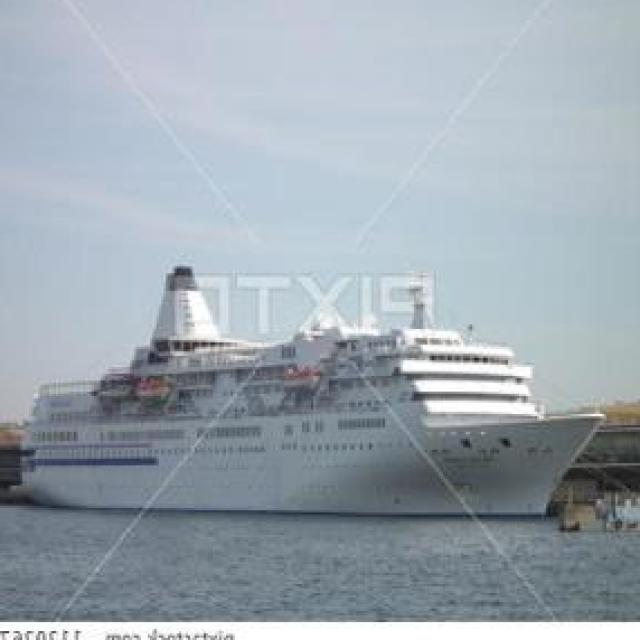passenger ship: (23, 272, 600, 512)
